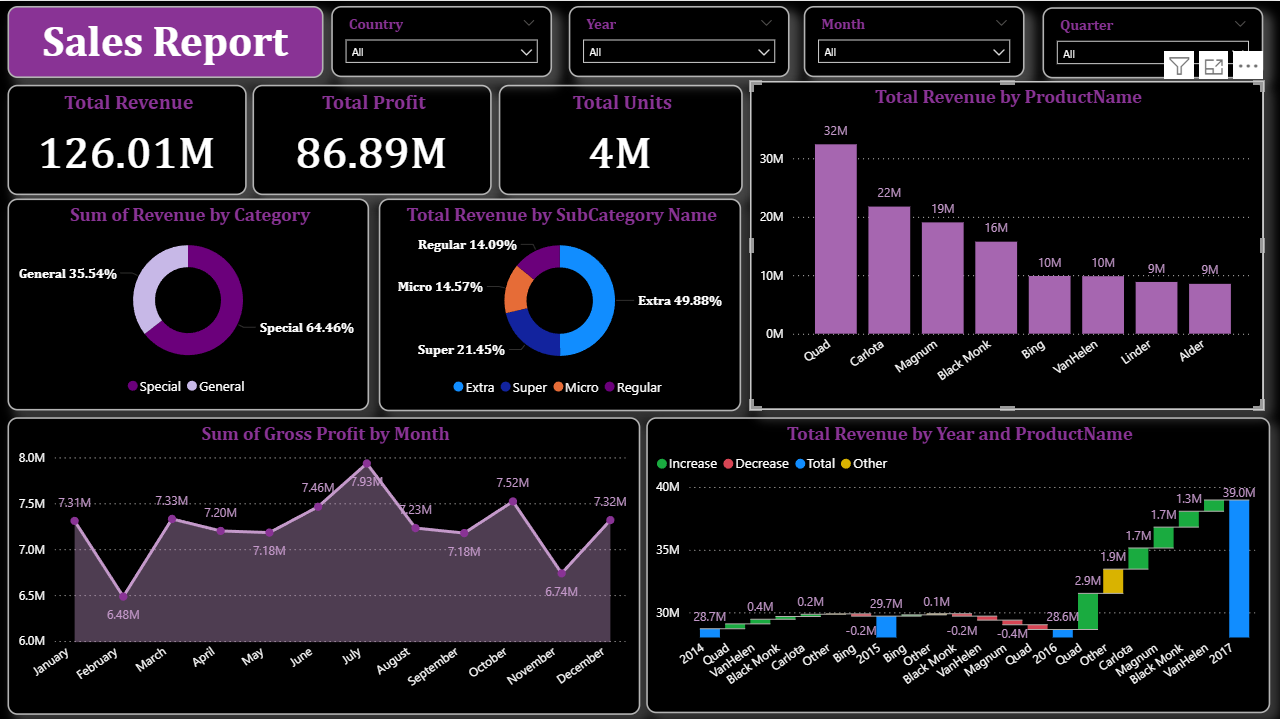

This screenshot's page, from the dashboard's own definition file:
{"tool":"powerbi","page":{"name":"Page 1","canvas":[1280,720],"ordinal":0},"visuals":[{"type":"textbox","box":[7.5,5,315.8,71.7],"z":0},{"type":"card","title":"Total Revenue","fields":{"Values":["Sales.Total Revenue"]},"box":[7.3,83.3,239.1,110],"z":1000},{"type":"card","title":"Total Profit","fields":{"Values":["Sales.Total Profit"]},"box":[252.7,83.3,239.1,110],"z":2000},{"type":"card","title":"Total Units","fields":{"Values":["Sales.Units"]},"box":[498.2,83.3,243.6,110],"z":3000},{"type":"donutChart","fields":{"Y":["Sales.Revenue"],"Category":["Categories.Category"]},"box":[7.3,197.3,361.8,211.8],"z":4000},{"type":"donutChart","fields":{"Y":["Sales.Total Revenue"],"Category":["SubCategory.SubCategory Name"]},"box":[379.1,197.3,362.7,212.7],"z":5000},{"type":"areaChart","fields":{"Category":["Date Master.Date.Variation.Date Hierarchy.Month"],"Y":["Sales.Gross Profit"]},"box":[7.3,416.4,632.7,297.3],"z":6000},{"type":"waterfallChart","fields":{"Category":["Date Master.Date.Variation.Date Hierarchy.Year"],"Y":["Sales.Total Revenue"],"Breakdown":["Product.ProductName"]},"box":[646.4,416.4,623.6,296.4],"z":7000},{"type":"clusteredColumnChart","fields":{"Category":["Product.ProductName"],"Y":["Sales.Total Revenue"]},"box":[750,80,513.6,329.1],"z":8000},{"type":"slicer","fields":{"Values":["Geography.Country"]},"box":[331.7,5,220.8,70.8],"z":9000},{"type":"slicer","fields":{"Values":["Date Master.Date.Variation.Date Hierarchy.Year"]},"box":[568.3,5,220.8,70.8],"z":10000},{"type":"slicer","fields":{"Values":["Date Master.Date.Variation.Date Hierarchy.Month"]},"box":[803.3,5,220.8,70.8],"z":11000},{"type":"slicer","fields":{"Values":["Date Master.Date.Variation.Date Hierarchy.Quarter"]},"box":[1042.5,5.8,220.8,70.8],"z":12000}]}

Visuals, with their boxes in screenshot pixels (x1, y1, x2, y2), scaled from the page's 1280x720 canvas onto the 1280x719 screenshot:
textbox: region(8, 5, 323, 77)
"Total Revenue" card: region(7, 83, 246, 193)
"Total Profit" card: region(253, 83, 492, 193)
"Total Units" card: region(498, 83, 742, 193)
donutChart - Sales.Revenue x Categories.Category: region(7, 197, 369, 409)
donutChart - Sales.Total Revenue x SubCategory.SubCategory Name: region(379, 197, 742, 409)
areaChart - Date Master.Date.Variation.Date Hierarchy.Month x Sales.Gross Profit: region(7, 416, 640, 713)
waterfallChart - Date Master.Date.Variation.Date Hierarchy.Year x Sales.Total Revenue: region(646, 416, 1270, 712)
clusteredColumnChart - Product.ProductName x Sales.Total Revenue: region(750, 80, 1264, 409)
slicer - Geography.Country: region(332, 5, 552, 76)
slicer - Date Master.Date.Variation.Date Hierarchy.Year: region(568, 5, 789, 76)
slicer - Date Master.Date.Variation.Date Hierarchy.Month: region(803, 5, 1024, 76)
slicer - Date Master.Date.Variation.Date Hierarchy.Quarter: region(1042, 6, 1263, 76)
